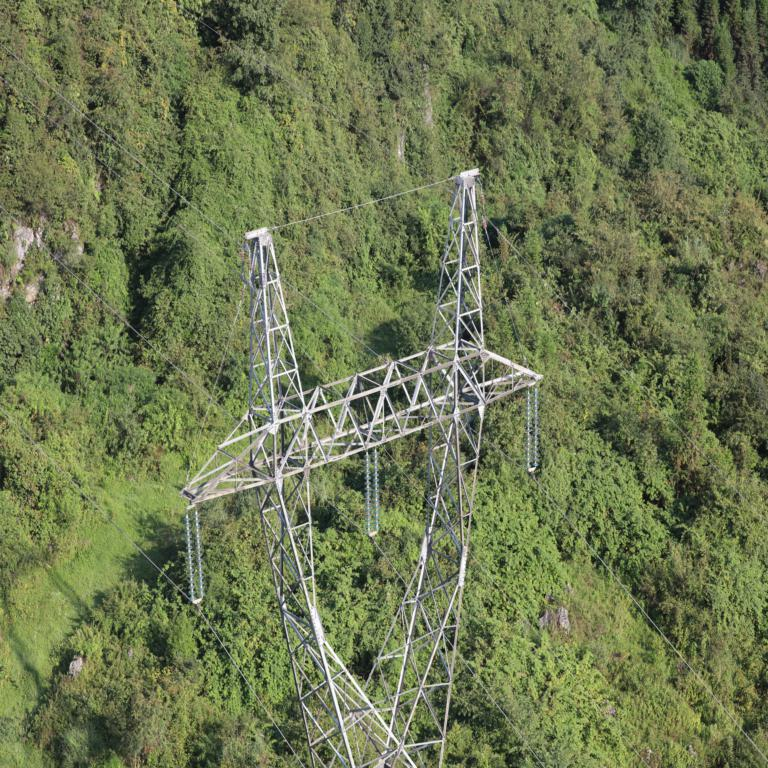nest: (415, 412, 425, 425)
